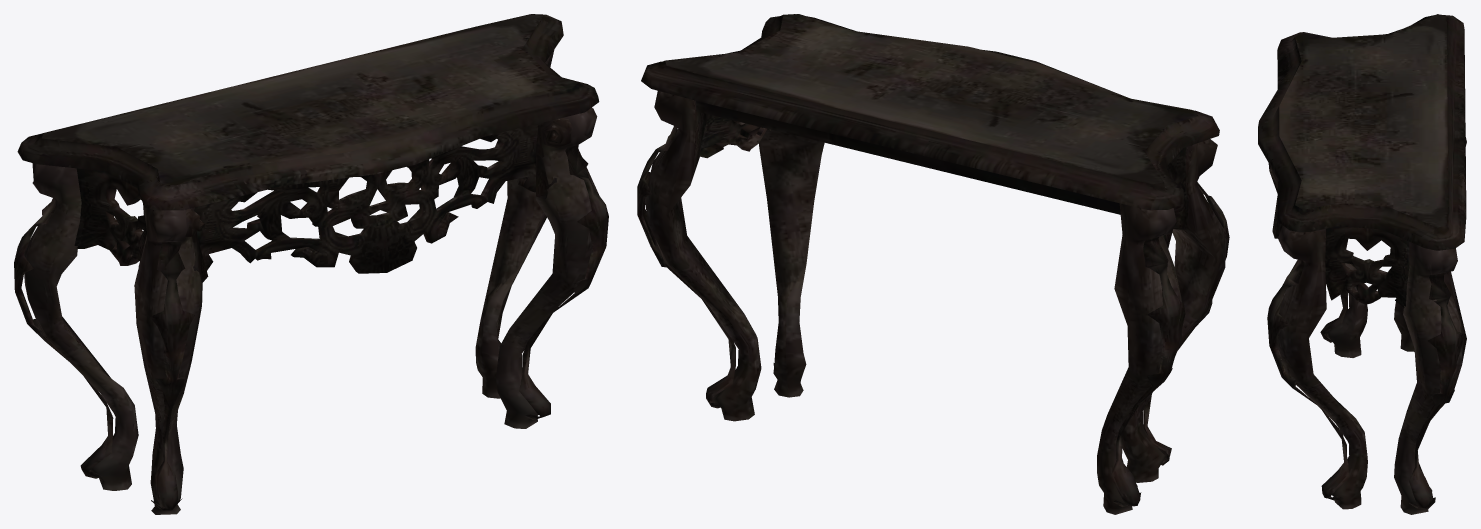
The model's file is hp_room_cc0_console.glb.
3 renders of one model, left to right at view 1: azimuth 30°, elevation 25°; view 2: azimuth 150°, elevation 25°; view 3: azimuth 270°, elevation 25°, orthographic. The views are drawn at different scales.
Parts seen in each view (by area): view 1: ClassicConsole_01; view 2: ClassicConsole_01; view 3: ClassicConsole_01.
Boxes of the visible parts, <box> form: ClassicConsole_01: <box>14,14,608,514</box>; ClassicConsole_01: <box>637,14,1229,514</box>; ClassicConsole_01: <box>1258,14,1466,514</box>.
Bounding box in the file's own units: 1.53 × 0.949 × 0.5854.
Materials: 1 (1 with a texture image).
